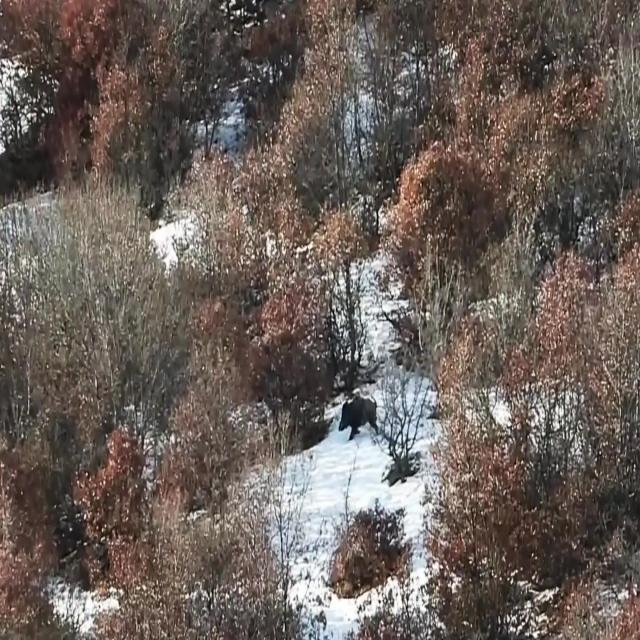pig: (333, 375, 390, 449)
